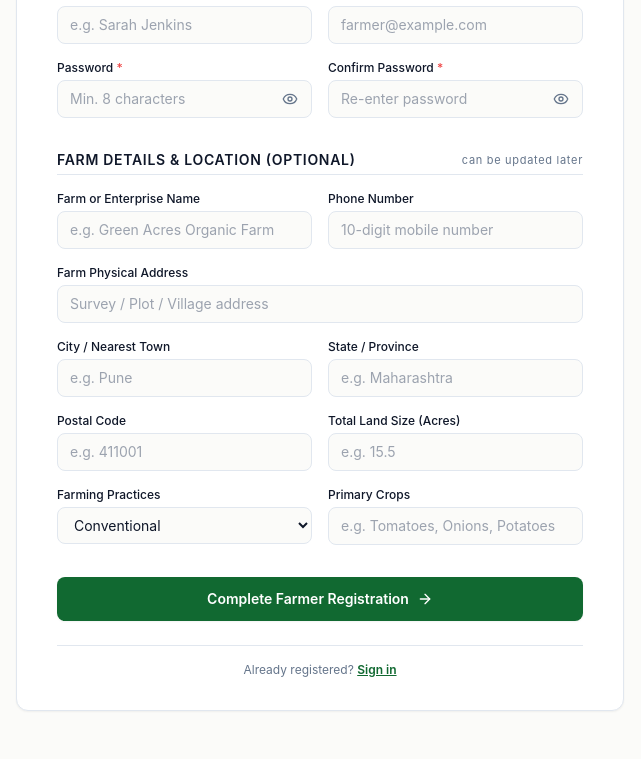
Scenario: FarmerRegisterPage › validates client-side required fields on empty submission
(page scrolled)
Click the button "Complete Farmer Registration" at (320, 599), box [57, 577, 583, 621]
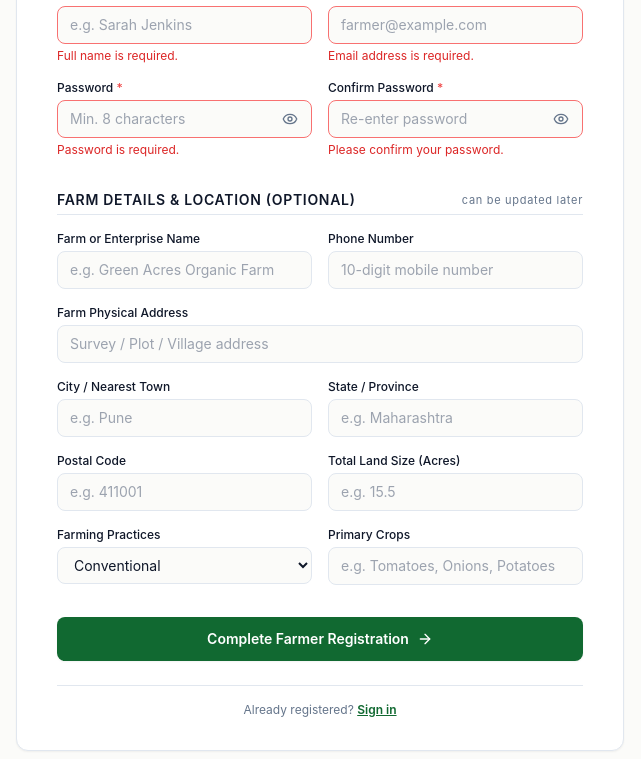
Check: the text "Full name is required." is shown, box [57, 48, 178, 63]
Check: the text "Email address is required." is shown, box [328, 48, 474, 63]
Check: the text "Password is required." is shown, box [57, 142, 179, 157]
